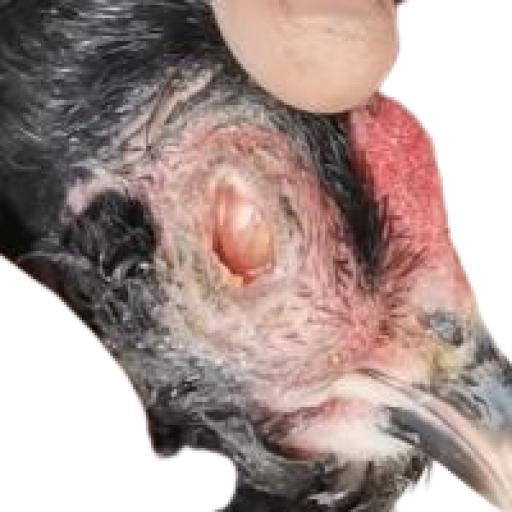disease: (141, 132, 327, 330)
